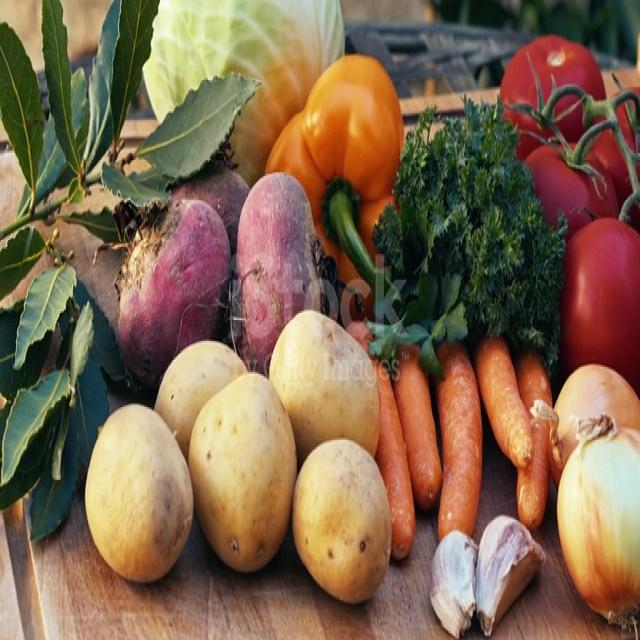carrot: (348, 321, 415, 560), (435, 341, 482, 538), (394, 346, 442, 510), (474, 337, 534, 467), (516, 359, 552, 529)
potato: (189, 374, 296, 571), (85, 404, 194, 582), (269, 311, 380, 462), (294, 439, 391, 603), (155, 341, 246, 460)
tomato: (560, 217, 640, 394), (500, 35, 608, 161), (525, 146, 619, 238)
